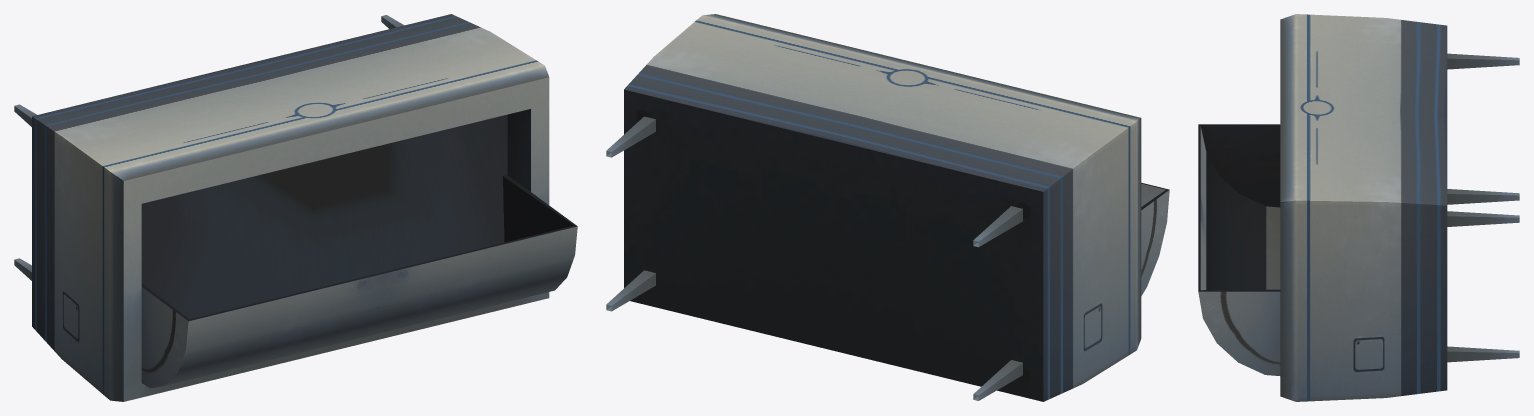
The model's file is nt_2020_dishwasher_01_LOD2.obj.
3 renders of one model, left to right at view 1: azimuth 30°, elevation 25°; view 2: azimuth 150°, elevation 25°; view 3: azimuth 270°, elevation 25°, orthographic. The views are drawn at different scales.
Visible parts, largest first — view 1: mtl_nt_2020_dishwasher_01; view 2: mtl_nt_2020_dishwasher_01; view 3: mtl_nt_2020_dishwasher_01.
Part boxes in pixels (left/top/right/bottom): mtl_nt_2020_dishwasher_01: left=14, top=14, right=577, bottom=401; mtl_nt_2020_dishwasher_01: left=606, top=14, right=1169, bottom=401; mtl_nt_2020_dishwasher_01: left=1198, top=14, right=1519, bottom=401.
Size of the model in its own units: 193 by 96.88 by 140.
